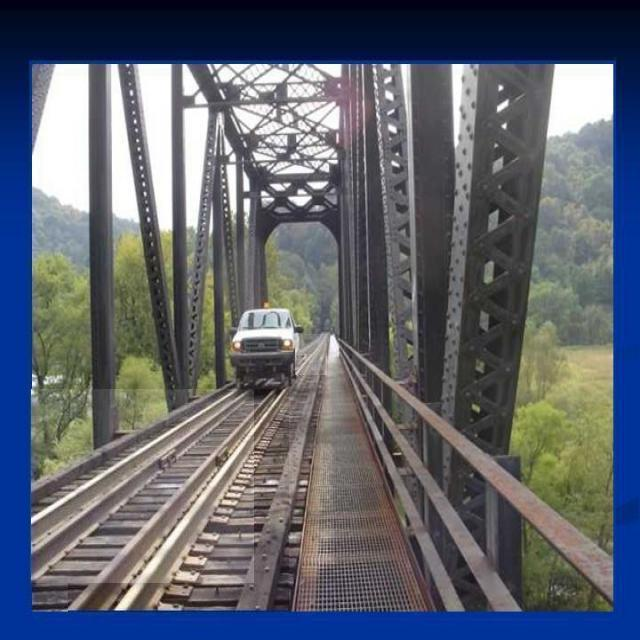rail: (69, 390, 290, 613), (32, 390, 255, 584), (297, 335, 328, 376), (301, 336, 325, 355)
